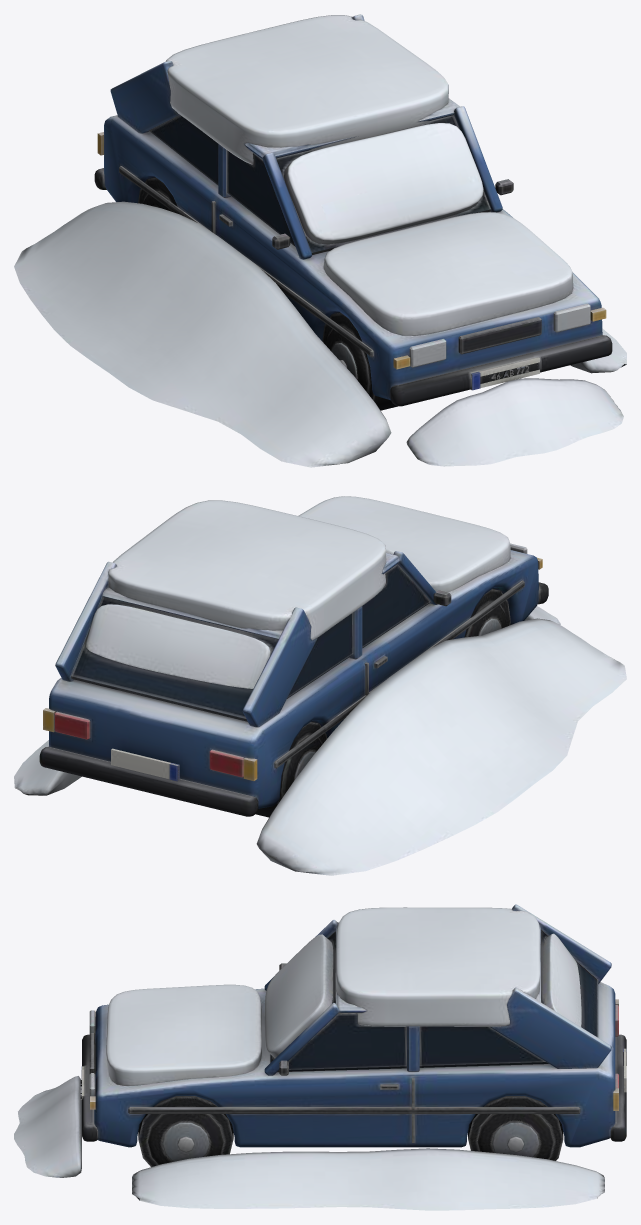
The model's file is car_hatch_snow.glb.
The picture shows the model from 3 angles, top to bottom: view 1: azimuth 30°, elevation 25°; view 2: azimuth 150°, elevation 25°; view 3: azimuth 270°, elevation 25°; orthographic projection. The views are drawn at different scales.
Parts seen in each view (by area): view 1: car_hatch_snow; view 2: car_hatch_snow; view 3: car_hatch_snow.
Part boxes in pixels (left/top/right/bottom): car_hatch_snow: left=14, top=14, right=626, bottom=467; car_hatch_snow: left=14, top=496, right=626, bottom=875; car_hatch_snow: left=14, top=904, right=626, bottom=1210.
Size of the model in its own units: 3.09 by 1.52 by 4.37.
1 material, 1 textured.
